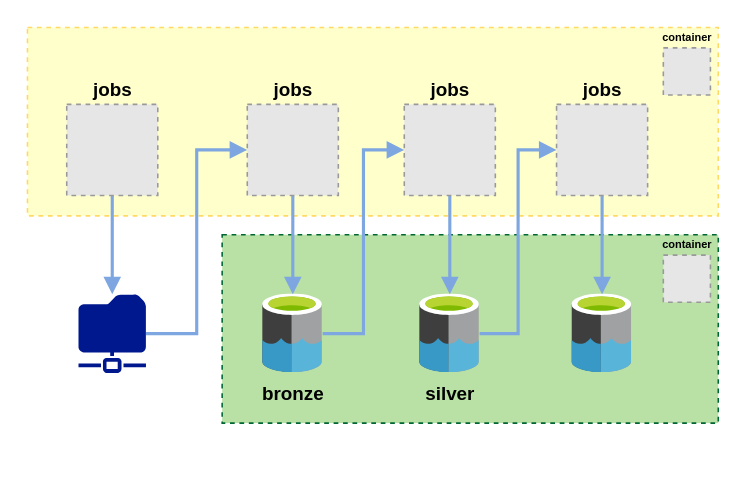
Some shapes in this 746 by 479 pixel diagram are drawn without their labels. Grey dashed boxes stand in for pictures. The centre of each missing label's shape, as x and y in pixels:
"gold" belongs at [601,333].
"local shared folder" belongs at [111,333].
